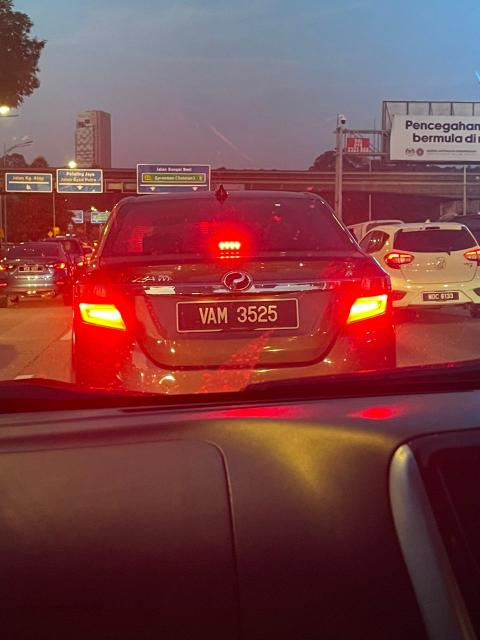License_Plate: (184, 301, 294, 334), (421, 289, 464, 305), (14, 263, 46, 274)
car: (63, 192, 406, 405)
